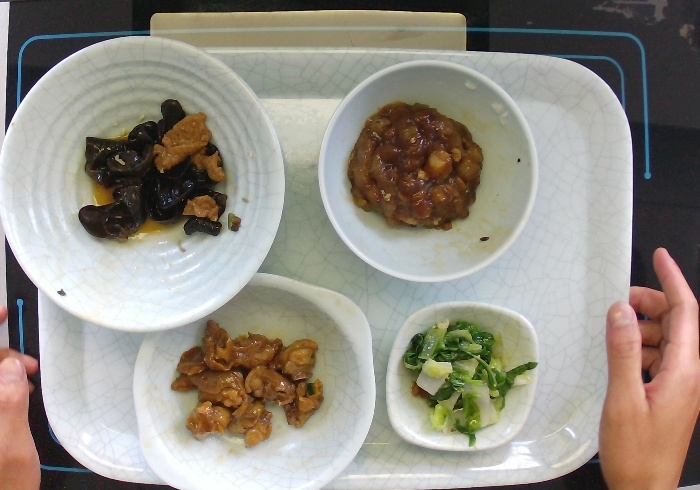JYsf-Fan_Wan: (313, 57, 544, 288)
JYsf-Shuang_Er_Wan: (128, 269, 381, 490)
JYsf-Si_Fang_Die: (383, 296, 545, 457)
JYsf-Xiao_Tang_Wan: (1, 32, 289, 335)
